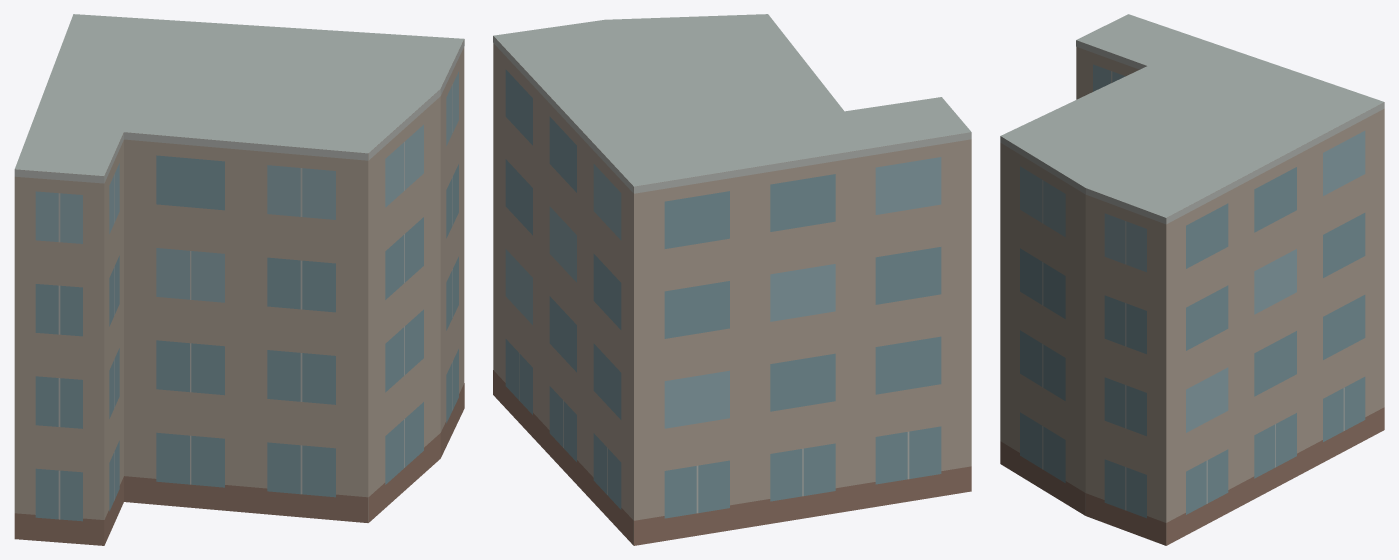
File: survey-upis-32486404.glb
The picture shows the model from 3 angles, left to right: view 1: azimuth 30°, elevation 25°; view 2: azimuth 150°, elevation 25°; view 3: azimuth 270°, elevation 25°; orthographic projection. The views are drawn at different scales.
Visible parts, largest first — view 1: survey-upis-32486404.tmp; view 2: survey-upis-32486404.tmp; view 3: survey-upis-32486404.tmp.
Boxes of the visible parts, bbox=[...] form: survey-upis-32486404.tmp: bbox=[14, 14, 464, 545]; survey-upis-32486404.tmp: bbox=[493, 14, 971, 545]; survey-upis-32486404.tmp: bbox=[1000, 14, 1384, 545].
Bounding box in the file's own units: 16.35 × 12.25 × 13.02.
